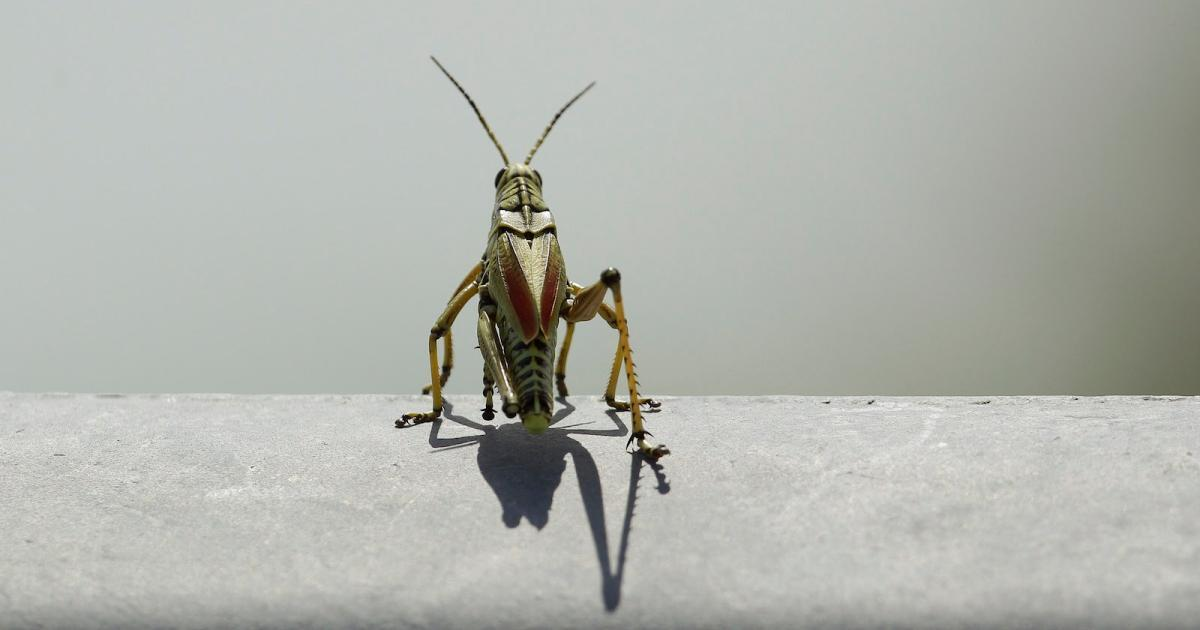insect: (386, 36, 667, 462)
